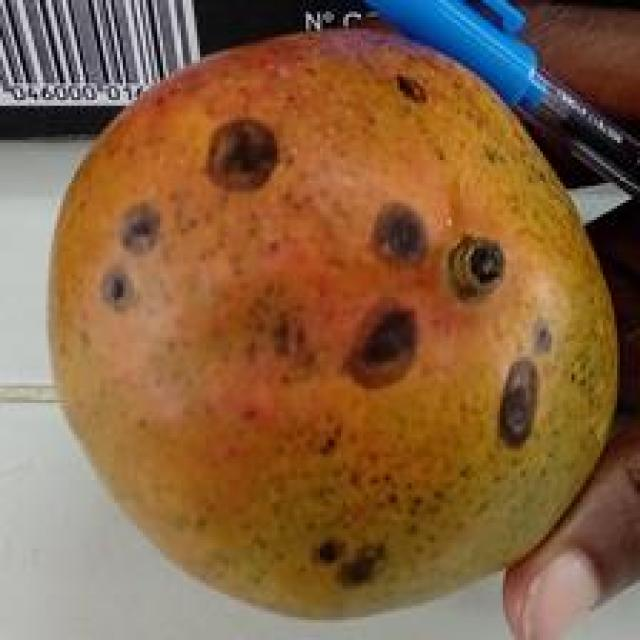Bad_Mango: (50, 30, 616, 616)
